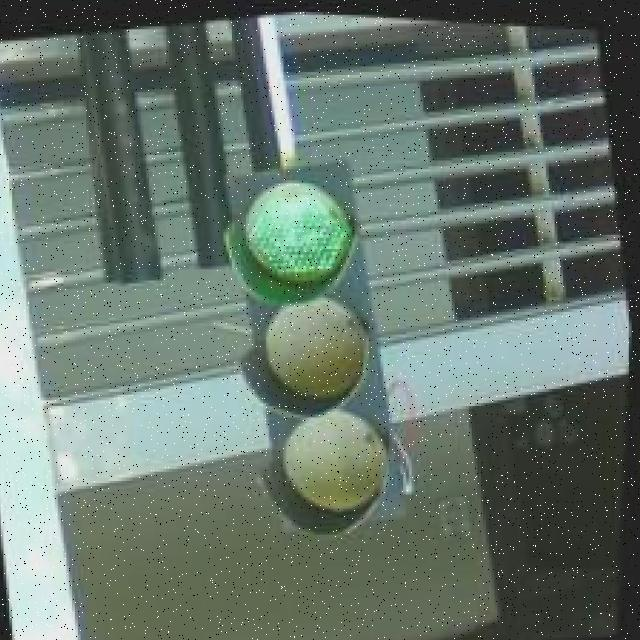Lampu Hijau: (206, 143, 424, 538)
